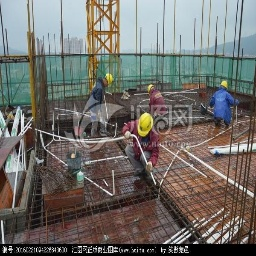helmet: (135, 111, 154, 139), (102, 71, 113, 88), (219, 79, 230, 91)
person: (126, 112, 165, 189), (207, 75, 240, 130), (90, 68, 111, 141), (147, 83, 171, 117)
